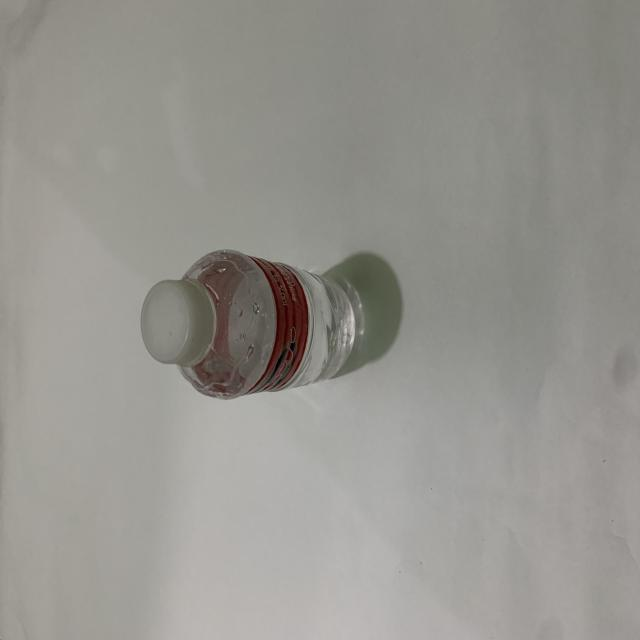bottle: (135, 238, 366, 414)
